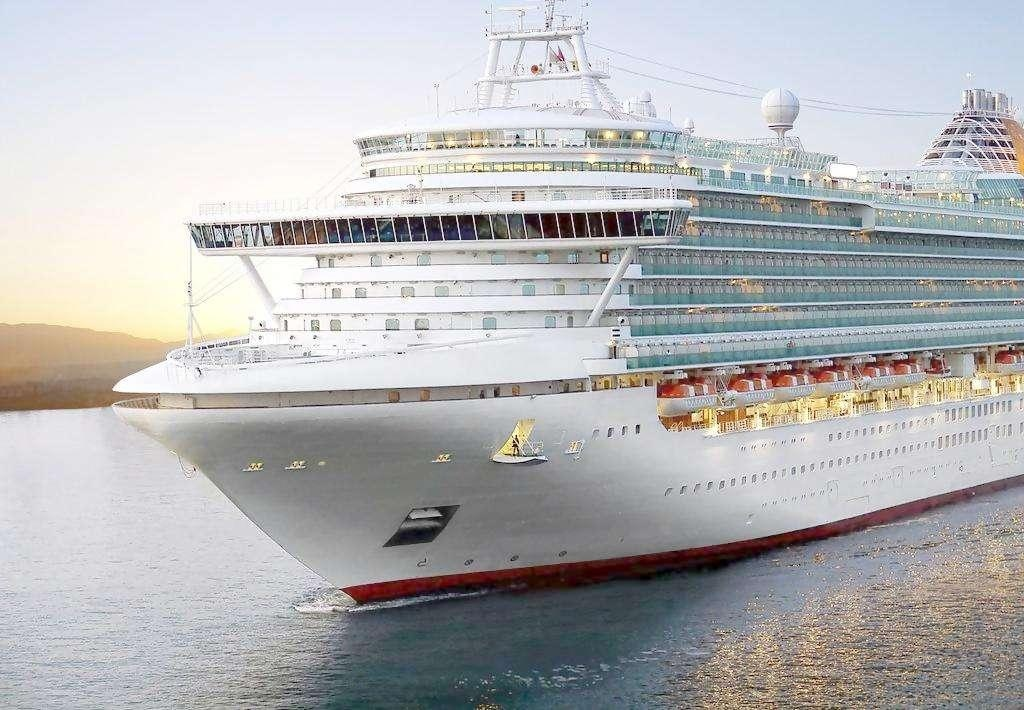youlun: (108, 24, 1024, 609)
